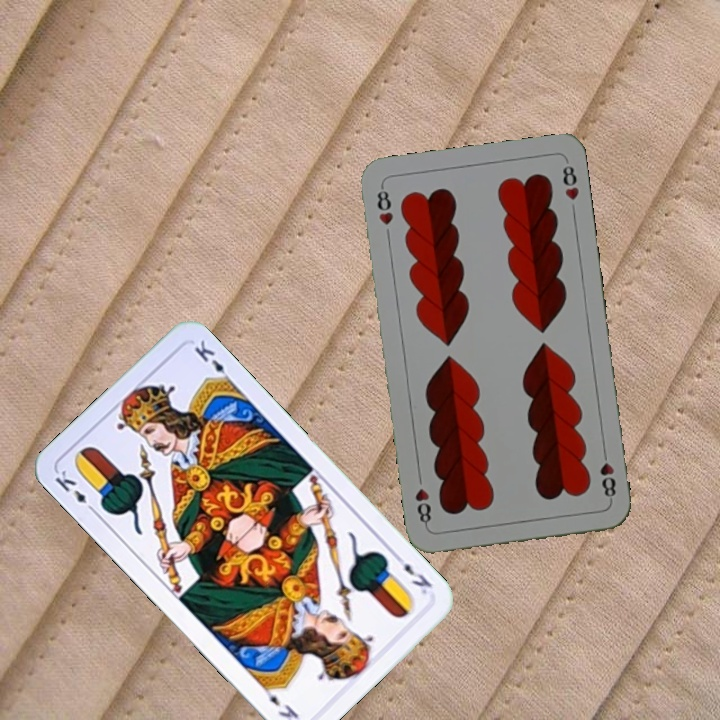EK: (51, 466, 99, 516), (389, 549, 435, 597)
H8: (596, 445, 619, 504), (373, 182, 396, 228)
